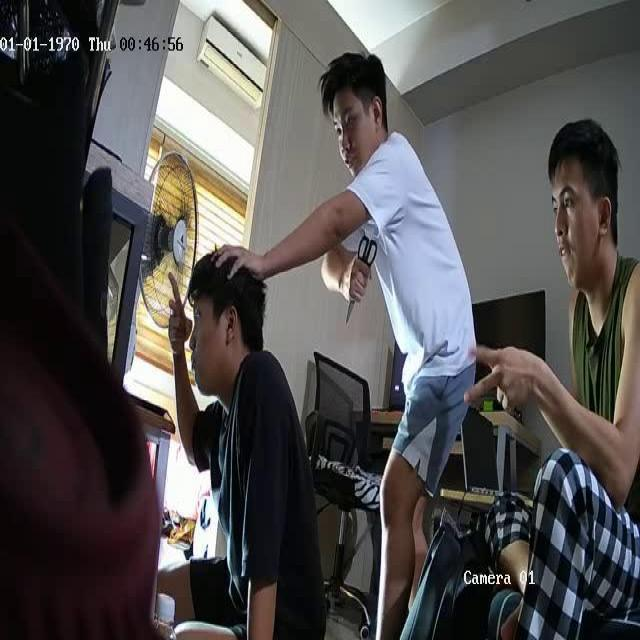scissor: (346, 235, 377, 322)
